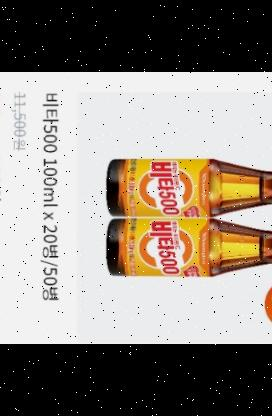Others: (99, 149, 272, 223), (105, 216, 272, 281)
